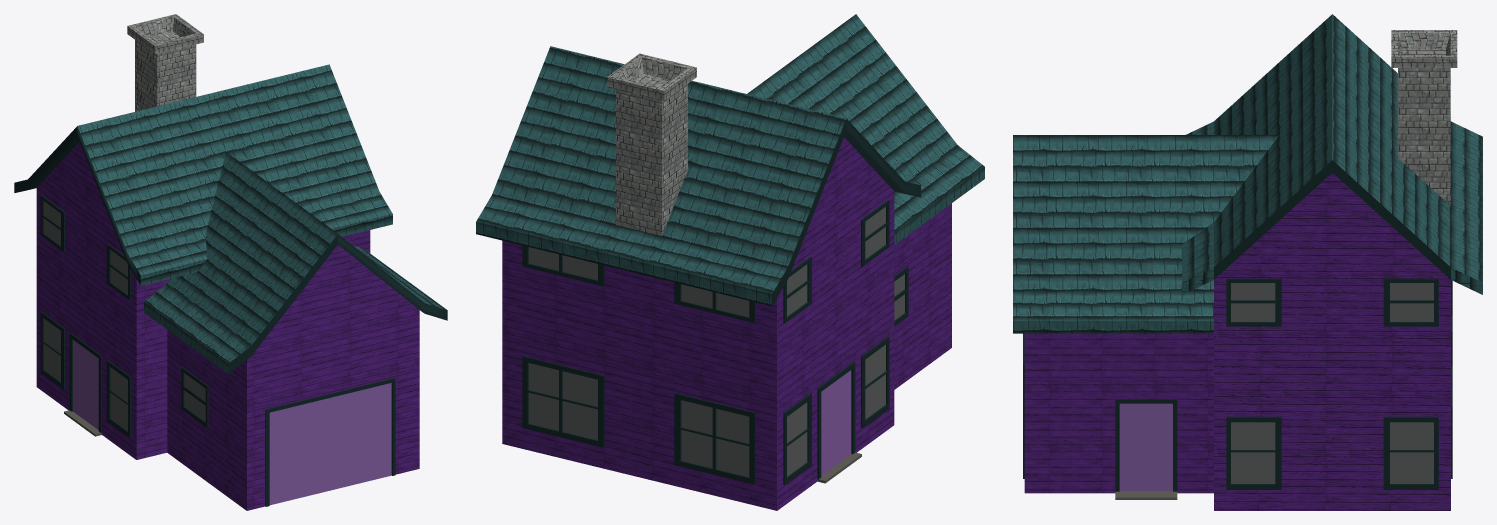
The model's file is House02.fbx.
The picture shows the model from 3 angles, left to right: view 1: azimuth 30°, elevation 25°; view 2: azimuth 150°, elevation 25°; view 3: azimuth 270°, elevation 25°; orthographic projection. The views are drawn at different scales.
Parts seen in each view (by area): view 1: polySurface2 (×2), House02_Roof (×2), House02_Chimney; view 2: polySurface2 (×2), House02_Roof (×2), House02_Chimney; view 3: polySurface2 (×2), House02_Roof (×2), House02_Chimney.
Part boxes in pixels (left/top/right/bottom): polySurface2 (×2): left=36, top=142, right=419, bottom=510; House02_Roof (×2): left=14, top=64, right=447, bottom=373; House02_Chimney: left=127, top=14, right=203, bottom=111; polySurface2 (×2): left=502, top=137, right=951, bottom=510; House02_Roof (×2): left=476, top=14, right=984, bottom=306; House02_Chimney: left=607, top=53, right=696, bottom=235; polySurface2 (×2): left=1023, top=172, right=1452, bottom=510; House02_Roof (×2): left=1013, top=14, right=1482, bottom=333; House02_Chimney: left=1391, top=30, right=1457, bottom=205.
Bounding box in the file's own units: 159 × 203 × 216.
Materials: 9 (5 with a texture image).
